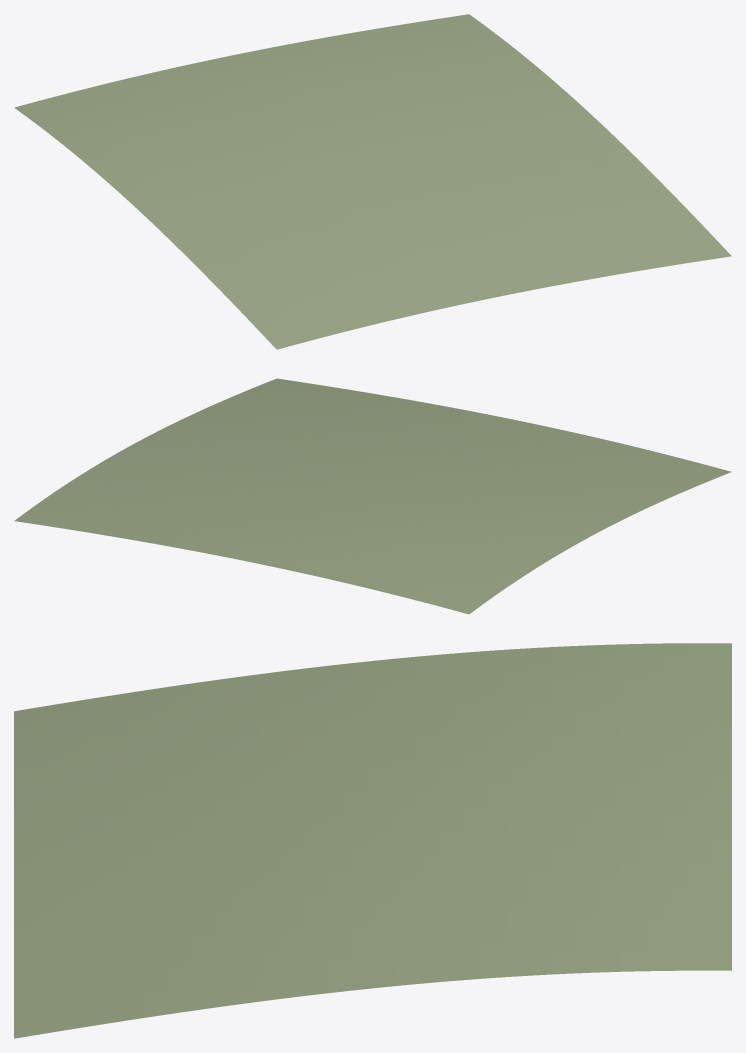
Rendered from valley-2-15.glb.
3 renders of one model, top to bottom at view 1: azimuth 30°, elevation 25°; view 2: azimuth 150°, elevation 25°; view 3: azimuth 270°, elevation 25°, orthographic. The views are drawn at different scales.
Visible parts, largest first — view 1: valley-2-15; view 2: valley-2-15; view 3: valley-2-15.
Part boxes in pixels (x1=…): valley-2-15: x1=14, y1=14, x2=731, y2=349; valley-2-15: x1=14, y1=378, x2=731, y2=614; valley-2-15: x1=14, y1=643, x2=731, y2=1038.
Bounding box in the file's own units: 256 × 37.03 × 256.
